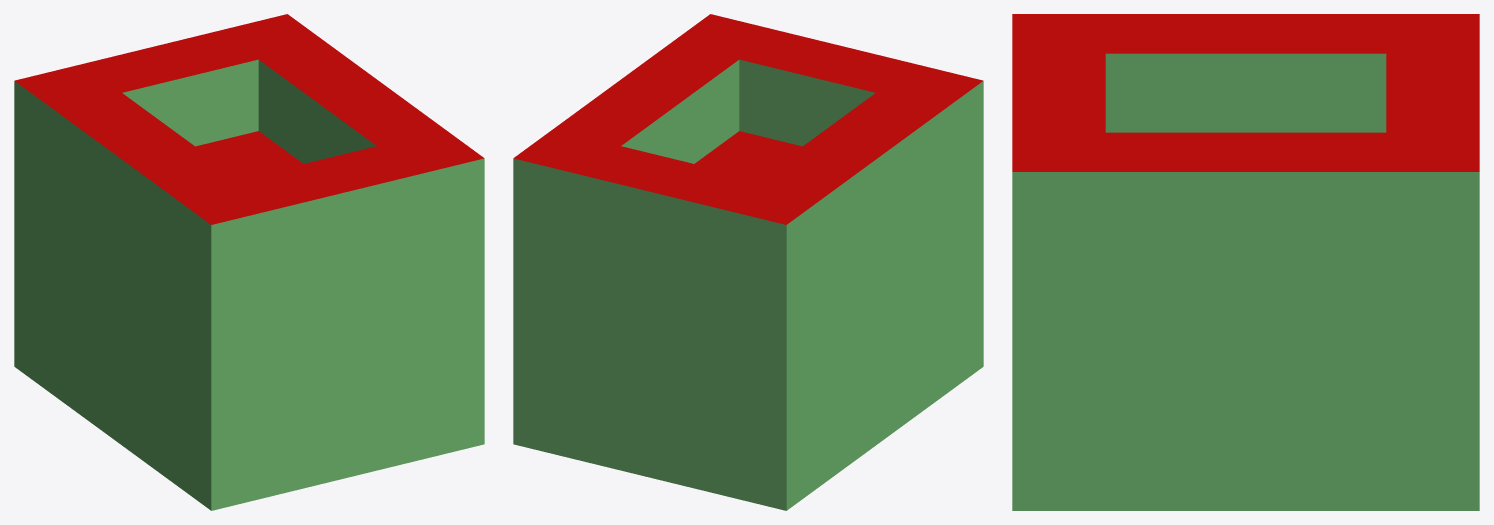
The model's file is x_00_colonn_9_pod_sunduk1_CHANGE.fbx.
3 views of the same model, side by side, from view 1: azimuth 30°, elevation 25°; view 2: azimuth 150°, elevation 25°; view 3: azimuth 270°, elevation 25° (orthographic). The views are drawn at different scales.
Parts seen in each view (by area): view 1: x_00_colonn_9_pod_sunduk1_CHANGE1; view 2: x_00_colonn_9_pod_sunduk1_CHANGE1; view 3: x_00_colonn_9_pod_sunduk1_CHANGE1.
Boxes of the visible parts, x1,y1,x2,y2 form: x_00_colonn_9_pod_sunduk1_CHANGE1: (14,14,484,510); x_00_colonn_9_pod_sunduk1_CHANGE1: (513,14,983,510); x_00_colonn_9_pod_sunduk1_CHANGE1: (1012,14,1479,510).
Size of the model in its own units: 4 by 4 by 5.
